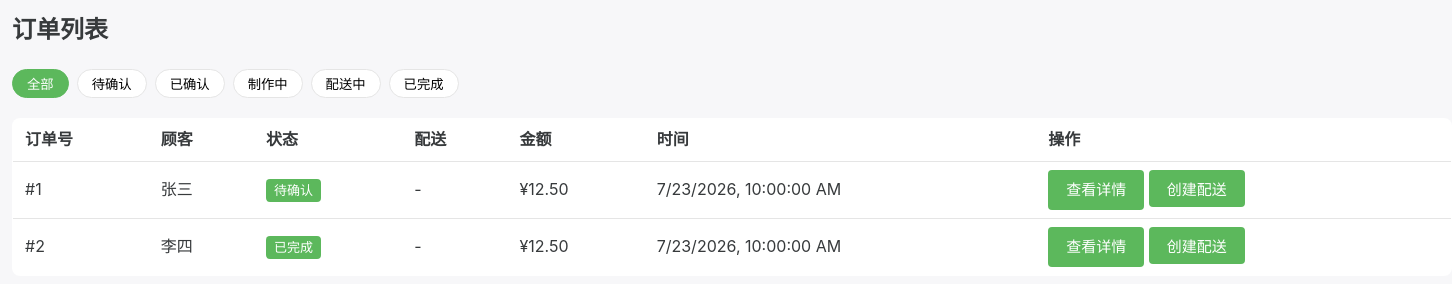
OrderListPage › chip 按状态枚举过滤（点“已完成”只留已完成订单，点“全部”还原）
The width and height of the screenshot is (1452, 284).
Expected: the text "张三" is shown, x1=149 y1=161 x2=254 y2=218
Click the button "已完成": (424, 84) x1=389 y1=69 x2=459 y2=98
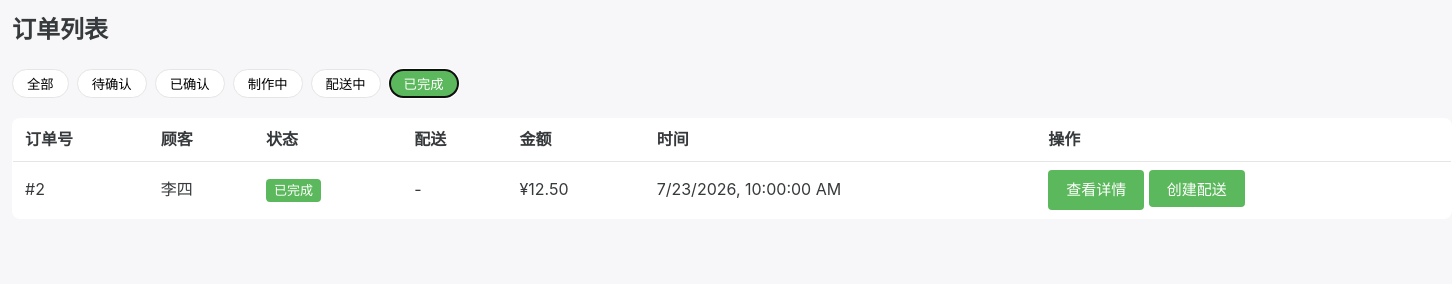
Expected: the text "李四" is shown, x1=149 y1=161 x2=254 y2=218
Expected: the text "张三" is gone
Click the button "全部": (40, 84) x1=12 y1=69 x2=69 y2=98
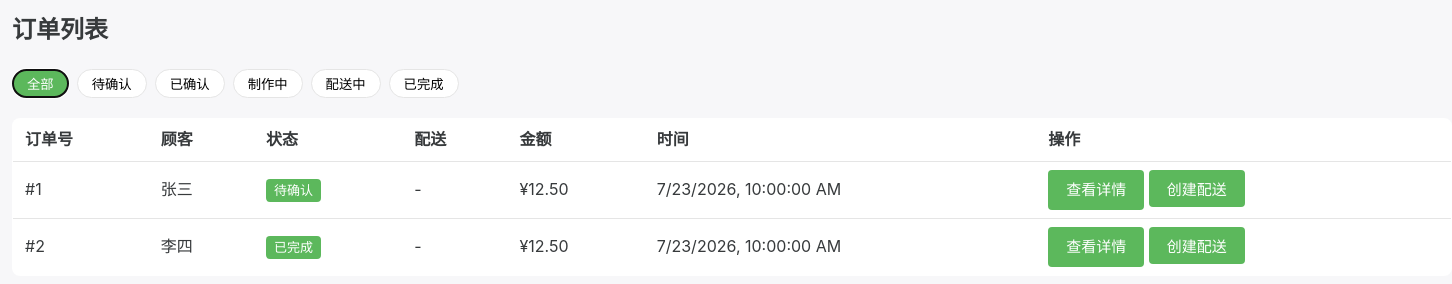
Expected: the text "张三" is shown, x1=149 y1=161 x2=254 y2=218
